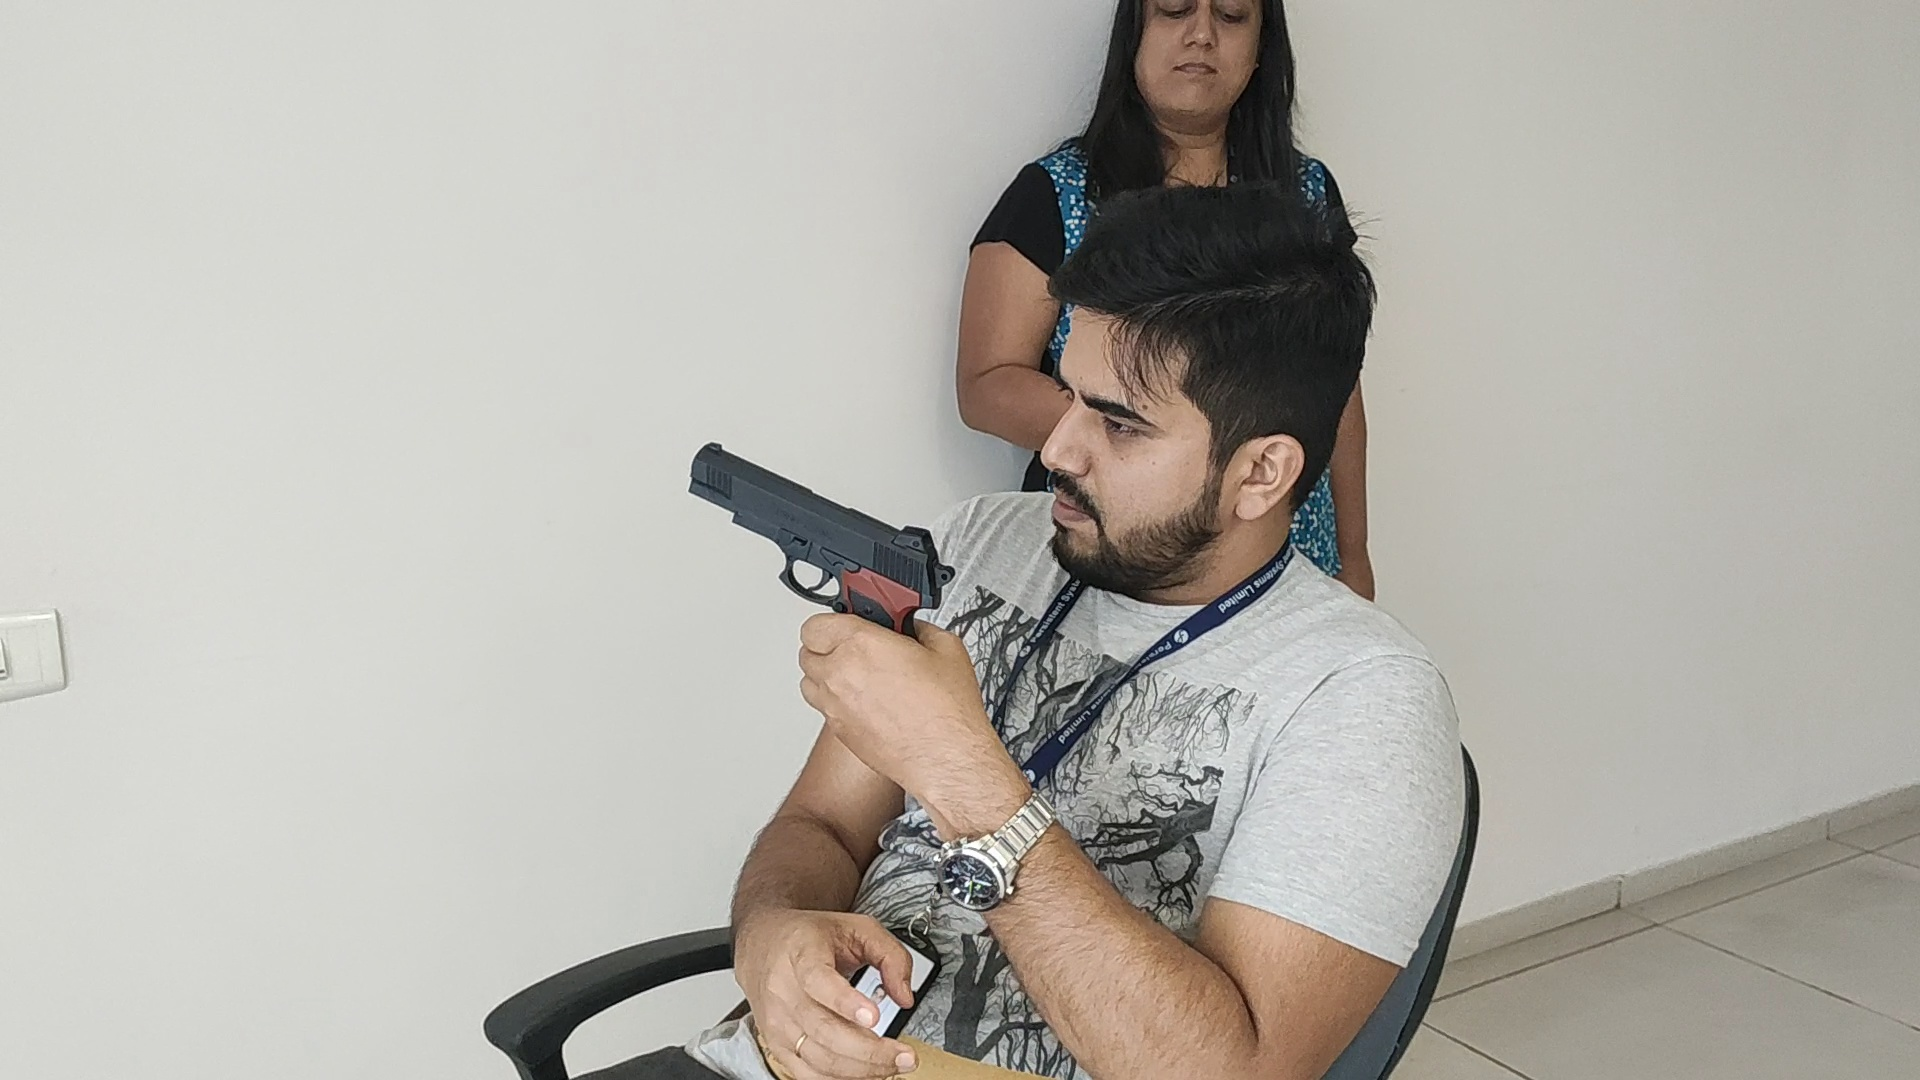gun: (688, 439, 956, 622)
